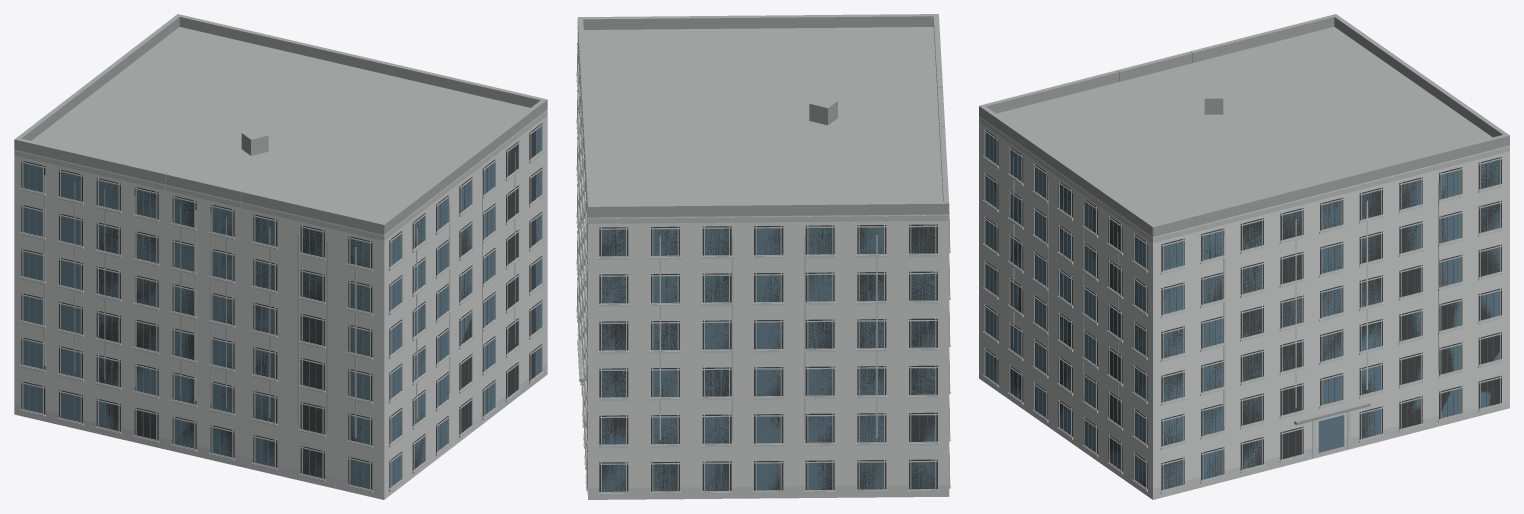
Rendered from cop_escritorio_clinica_04__way_488128332.fbx.
3 views of the same model, side by side, from view 1: azimuth 30°, elevation 25°; view 2: azimuth 150°, elevation 25°; view 3: azimuth 270°, elevation 25° (orthographic). The views are drawn at different scales.
Visible parts, largest first — view 1: cop_escritorio_clinica_04__way_488128332_wall, cop_escritorio_clinica_04__way_488128332_roof, cop_escritorio_clinica_04__way_488128332_glass, cop_escritorio_clinica_04__way_488128332_shadow, cop_escritorio_clinica_04__way_488128332_trim, cop_escritorio_clinica_04__way_488128332_stone, cop_escritorio_clinica_04__way_488128332_metal; view 2: cop_escritorio_clinica_04__way_488128332_roof, cop_escritorio_clinica_04__way_488128332_wall, cop_escritorio_clinica_04__way_488128332_shadow, cop_escritorio_clinica_04__way_488128332_glass, cop_escritorio_clinica_04__way_488128332_trim, cop_escritorio_clinica_04__way_488128332_stone, cop_escritorio_clinica_04__way_488128332_metal; view 3: cop_escritorio_clinica_04__way_488128332_wall, cop_escritorio_clinica_04__way_488128332_roof, cop_escritorio_clinica_04__way_488128332_shadow, cop_escritorio_clinica_04__way_488128332_glass, cop_escritorio_clinica_04__way_488128332_trim, cop_escritorio_clinica_04__way_488128332_stone, cop_escritorio_clinica_04__way_488128332_metal.
Boxes of the visible parts, <box> form: cop_escritorio_clinica_04__way_488128332_wall: <box>14,110,547,499</box>; cop_escritorio_clinica_04__way_488128332_roof: <box>14,14,547,234</box>; cop_escritorio_clinica_04__way_488128332_glass: <box>23,126,541,489</box>; cop_escritorio_clinica_04__way_488128332_shadow: <box>21,123,542,490</box>; cop_escritorio_clinica_04__way_488128332_trim: <box>14,111,547,490</box>; cop_escritorio_clinica_04__way_488128332_stone: <box>14,150,547,499</box>; cop_escritorio_clinica_04__way_488128332_metal: <box>29,129,538,487</box>; cop_escritorio_clinica_04__way_488128332_roof: <box>577,14,949,381</box>; cop_escritorio_clinica_04__way_488128332_wall: <box>577,37,949,499</box>; cop_escritorio_clinica_04__way_488128332_shadow: <box>577,43,937,492</box>; cop_escritorio_clinica_04__way_488128332_glass: <box>602,227,935,491</box>; cop_escritorio_clinica_04__way_488128332_trim: <box>577,30,949,492</box>; cop_escritorio_clinica_04__way_488128332_stone: <box>576,71,950,499</box>; cop_escritorio_clinica_04__way_488128332_metal: <box>577,55,927,491</box>; cop_escritorio_clinica_04__way_488128332_wall: <box>979,116,1509,499</box>; cop_escritorio_clinica_04__way_488128332_roof: <box>979,14,1509,425</box>; cop_escritorio_clinica_04__way_488128332_shadow: <box>984,129,1501,490</box>; cop_escritorio_clinica_04__way_488128332_glass: <box>985,132,1499,489</box>; cop_escritorio_clinica_04__way_488128332_trim: <box>979,117,1509,491</box>; cop_escritorio_clinica_04__way_488128332_stone: <box>982,156,1509,499</box>; cop_escritorio_clinica_04__way_488128332_metal: <box>988,135,1493,488</box>.
Size of the model in its own units: 3134 by 1912 by 3297.
